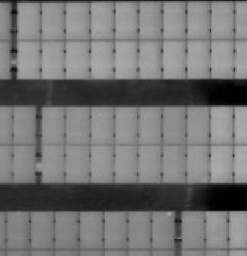solar: (206, 104, 236, 145), (9, 104, 38, 146), (39, 104, 68, 146), (64, 104, 93, 146), (88, 104, 117, 146), (111, 104, 140, 146), (136, 104, 165, 146), (161, 104, 190, 146), (184, 104, 213, 146), (207, 143, 237, 183), (183, 144, 213, 184), (158, 144, 188, 184), (135, 144, 165, 184), (111, 144, 141, 184), (87, 144, 117, 184), (60, 144, 90, 184), (38, 144, 68, 184), (9, 144, 39, 184), (3, 209, 33, 249), (27, 210, 57, 250), (52, 210, 82, 250), (75, 210, 105, 250), (100, 210, 130, 250), (125, 210, 155, 250), (148, 210, 178, 250), (178, 210, 208, 250), (201, 210, 231, 250), (14, 1, 43, 42), (38, 1, 67, 42), (64, 1, 93, 42), (87, 1, 116, 42), (208, 38, 237, 79), (183, 38, 212, 79), (159, 39, 188, 80), (135, 39, 164, 80), (111, 39, 140, 80), (87, 39, 116, 80), (63, 39, 92, 80), (38, 39, 67, 80), (13, 40, 42, 81), (113, 1, 142, 41), (135, 1, 164, 41), (159, 1, 188, 41), (184, 1, 213, 41), (208, 1, 237, 41)
